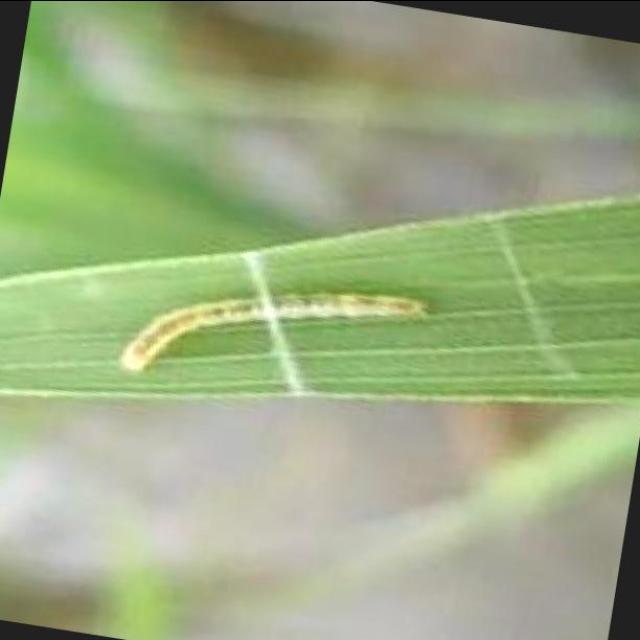leaf folder: (120, 293, 426, 371)
